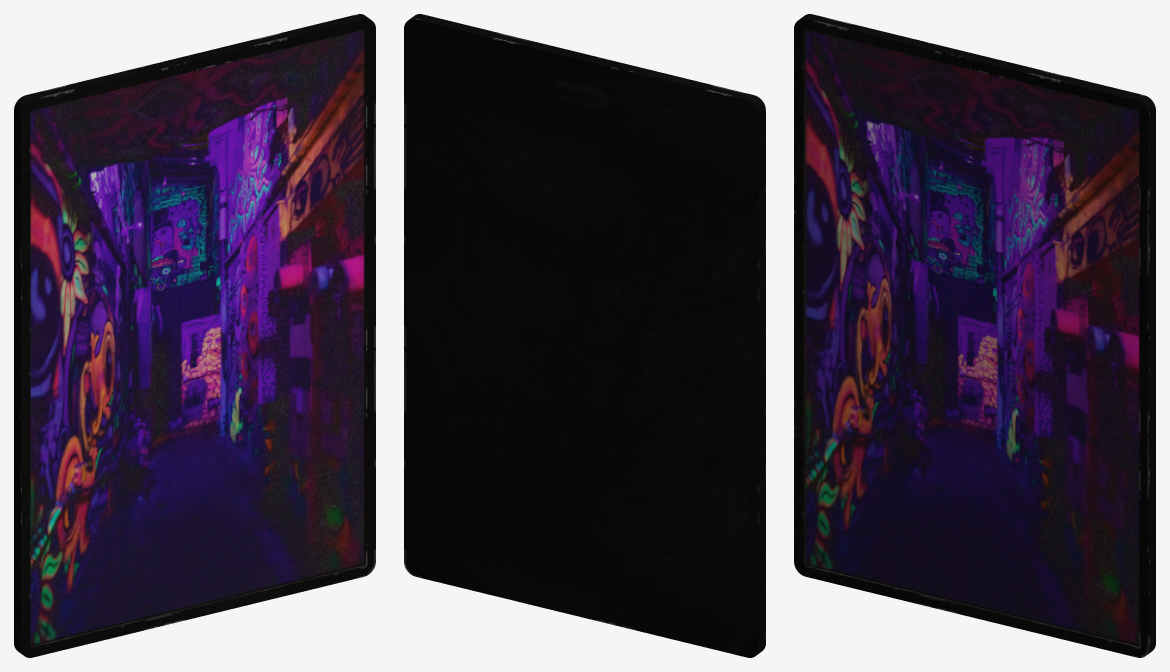
The model's file is game_hall_picture_03.fbx.
3 renders of one model, left to right at view 1: azimuth 30°, elevation 25°; view 2: azimuth 150°, elevation 25°; view 3: azimuth 330°, elevation 25°, orthographic.
Visible parts, largest first — view 1: Mesh1 skpC55E1 Model; view 2: Mesh1 skpC55E1 Model; view 3: Mesh1 skpC55E1 Model.
Part boxes in pixels (x1,y1,x2,y2): Mesh1 skpC55E1 Model: [14, 14, 375, 657]; Mesh1 skpC55E1 Model: [404, 14, 765, 657]; Mesh1 skpC55E1 Model: [794, 14, 1155, 657].
Size of the model in its own units: 60 by 90 by 3.
1 material, 1 textured.
